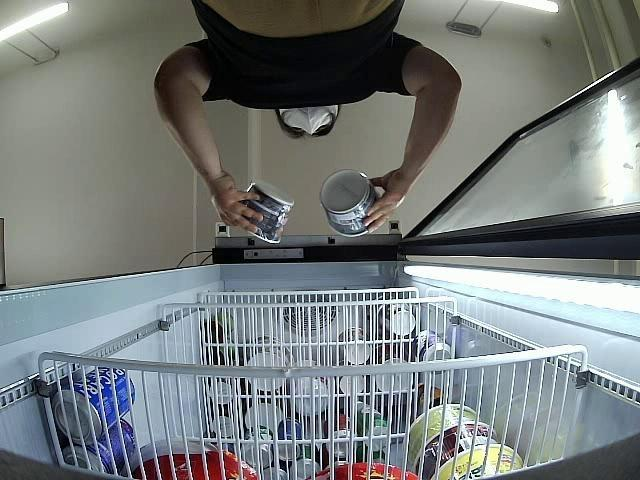07_buldak_L: (321, 171, 382, 238), (234, 180, 294, 244)
